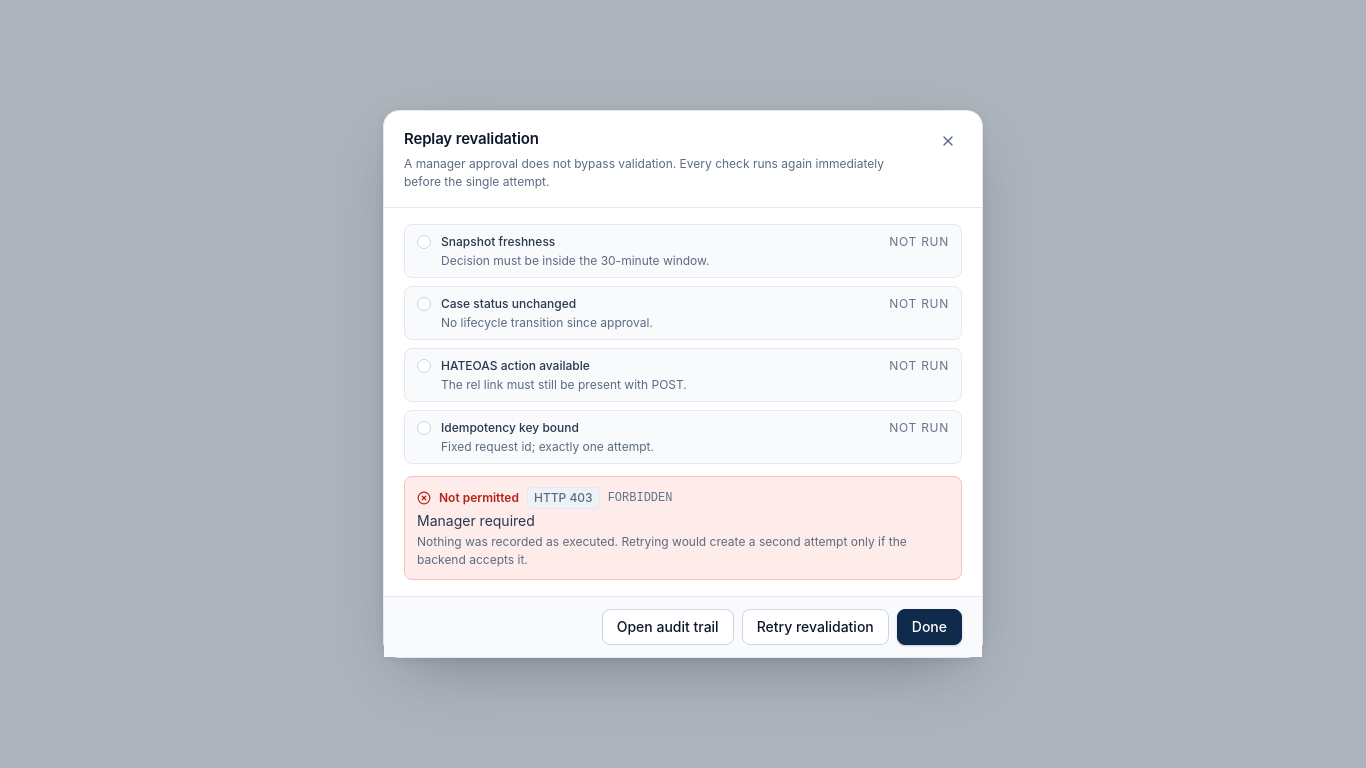
Test case: release replay safety › allows an explicit retry after a permission denial
Expected: the message is shown, [404,476,962,580]
What coordinates should you click on to do the following:
click the button "Retry revalidation"
I would click on:
 (815, 627)
Its box is [742,609,889,645].
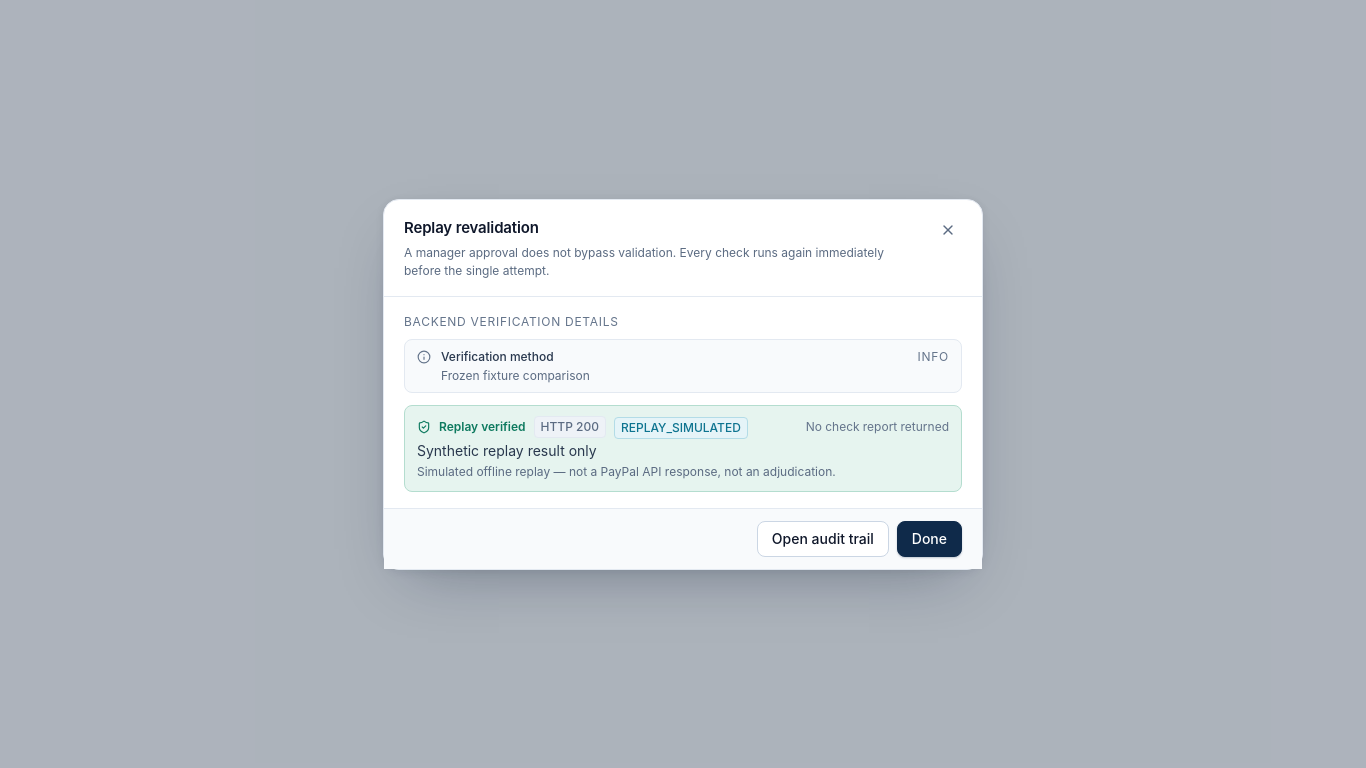
Expected: the text "Synthetic replay result only" is shown, [417,442,597,458]
